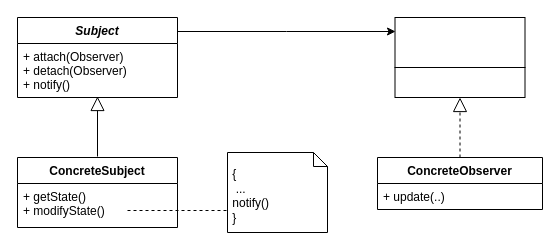
Some shapes in this 560 by 250 pixel diagram are drawn without their labels. The centre of each missing label's shape, as x and y in pixels:
"update(...)" belongs at point 459,82.
"«interface» Observer" belongs at point 459,42.
